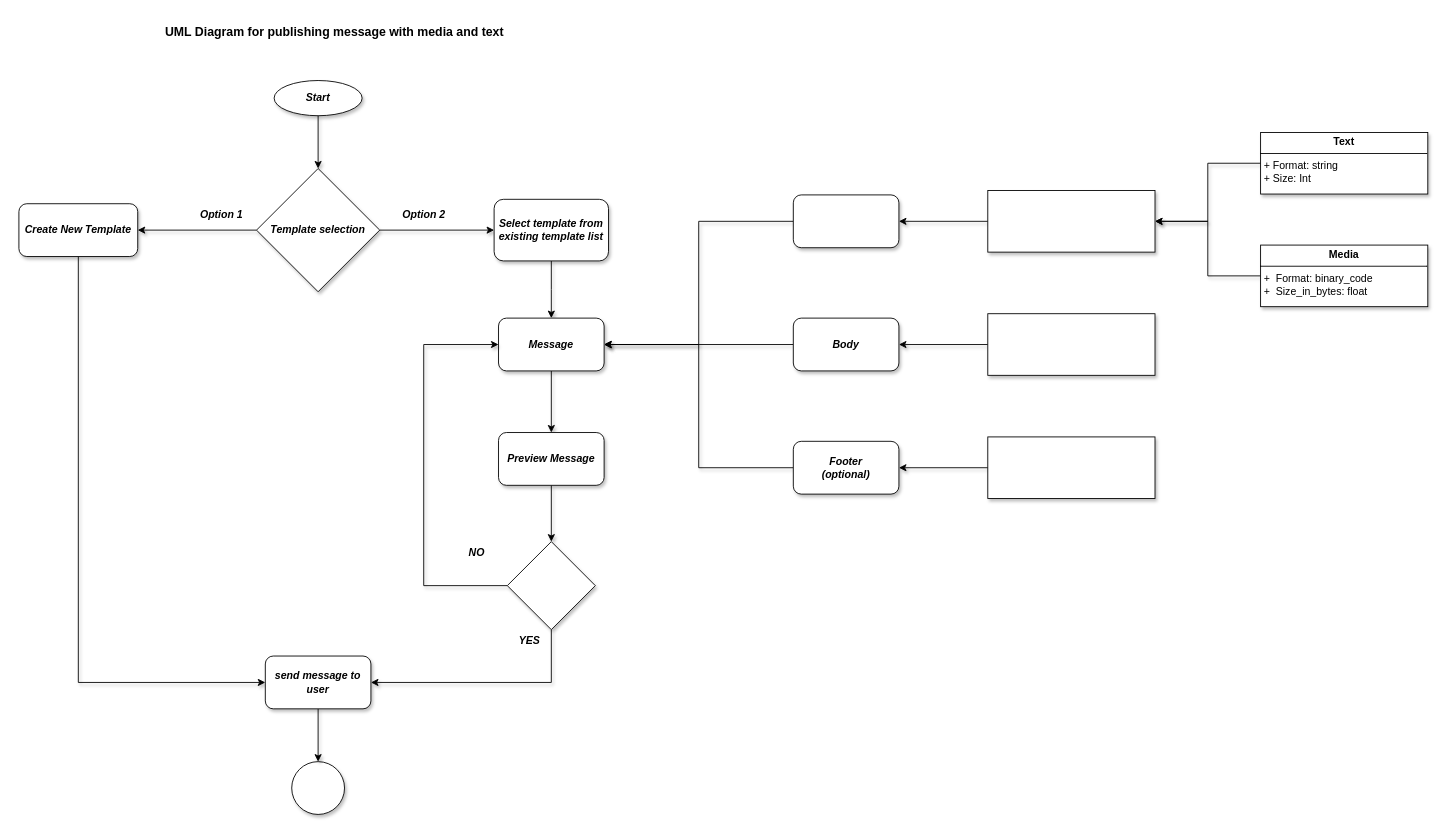
Image size: 1448x836. Some labels were removed from this diagram. The shapes that lost their labels are listed below. From the top down, each one's centre as x and y in pixels, then its label:
[846,222]: Header
[1071,222]: Header Type + Format: string = "TEXT" + Size: Int
[1071,345]: Body Type + Format: string = "TEXT" + Size: Int
[1071,469]: Footer Type + Format: string = "TEXT" + Size: Int
[552,586]: Confirmation
[318,789]: Stop
